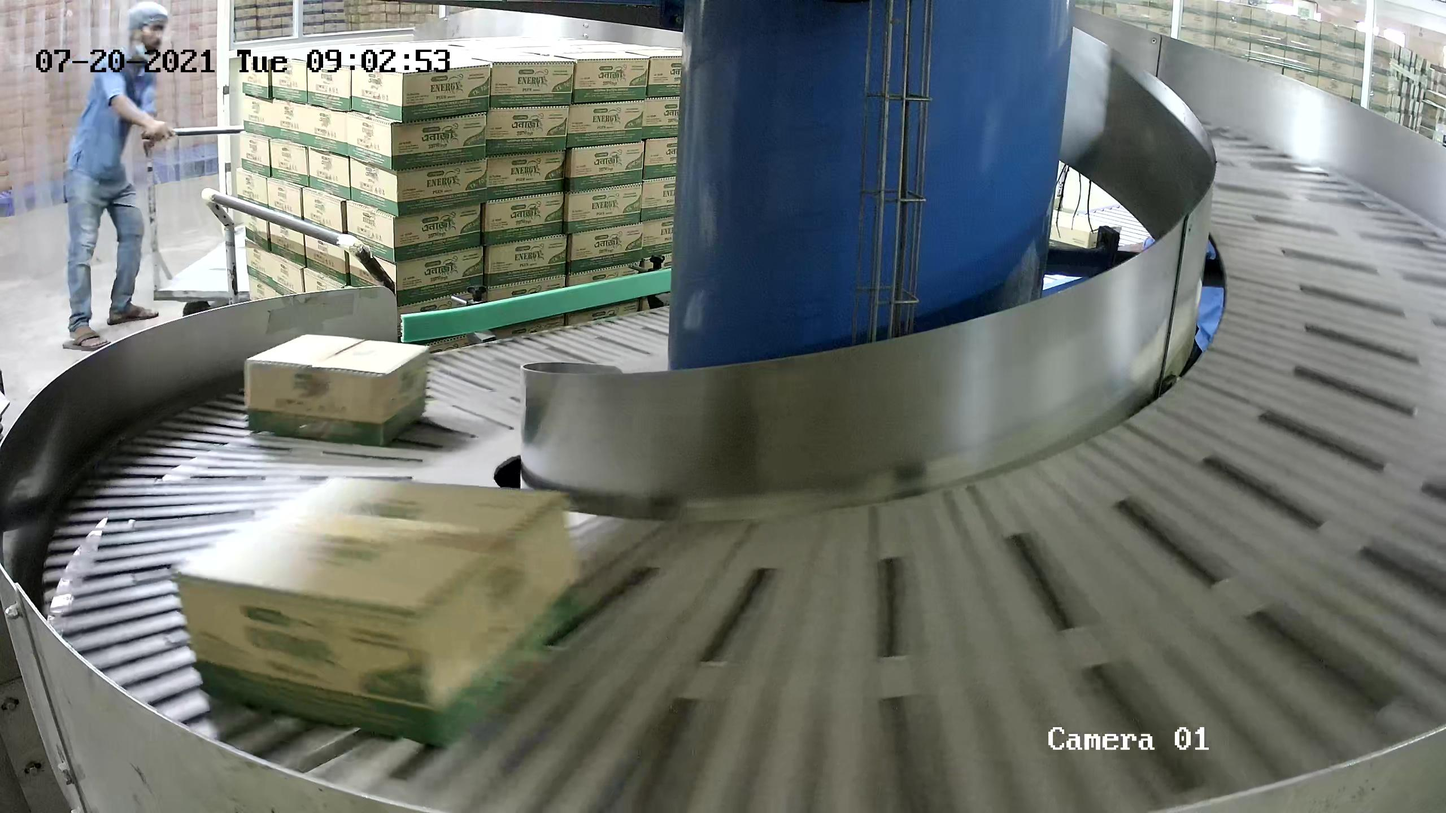Box: (174, 479, 585, 756), (243, 332, 432, 447)
